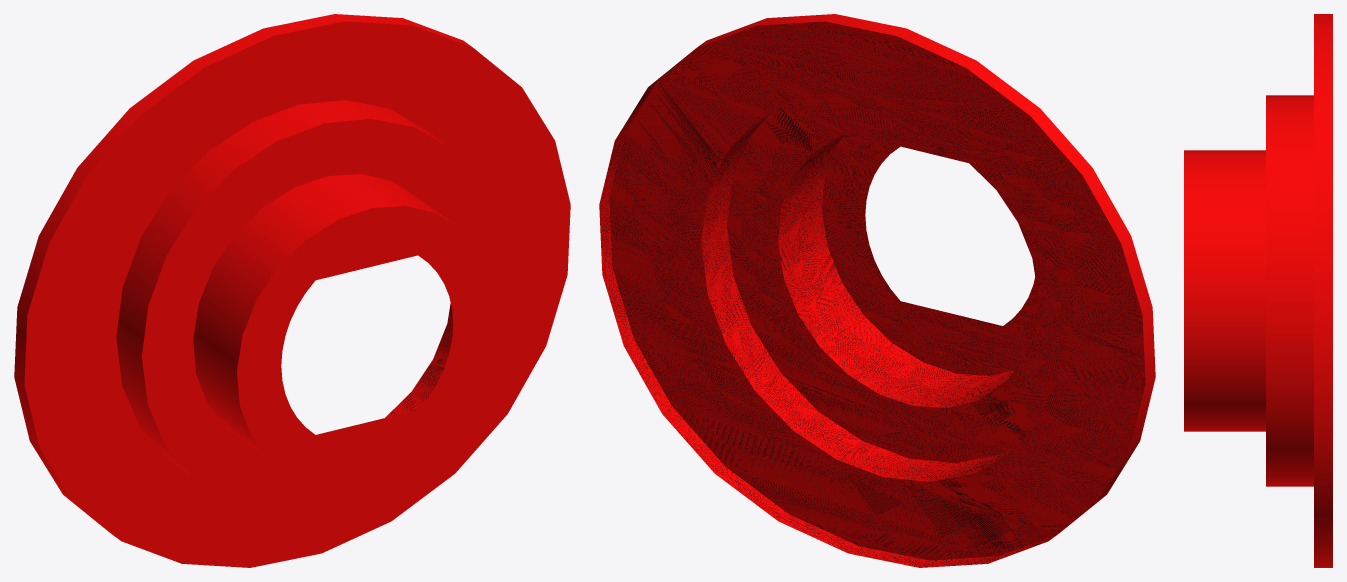
The model's file is original-105.obj.
3 renders of one model, left to right at view 1: azimuth 30°, elevation 25°; view 2: azimuth 150°, elevation 25°; view 3: azimuth 270°, elevation 25°, orthographic. The views are drawn at different scales.
Visible parts, largest first — view 1: mesh235/mesh235-geometry/material_0/component_0#mesh235-geometry; view 2: mesh235/mesh235-geometry/material_0/component_0#mesh235-geometry; view 3: mesh235/mesh235-geometry/material_0/component_0#mesh235-geometry.
Boxes of the visible parts, left/top/right/bottom form: mesh235/mesh235-geometry/material_0/component_0#mesh235-geometry: left=14, top=14, right=570, bottom=567; mesh235/mesh235-geometry/material_0/component_0#mesh235-geometry: left=599, top=14, right=1155, bottom=567; mesh235/mesh235-geometry/material_0/component_0#mesh235-geometry: left=1184, top=14, right=1332, bottom=567.
Size of the model in its own units: 0.9046 by 0.8375 by 0.2278.
